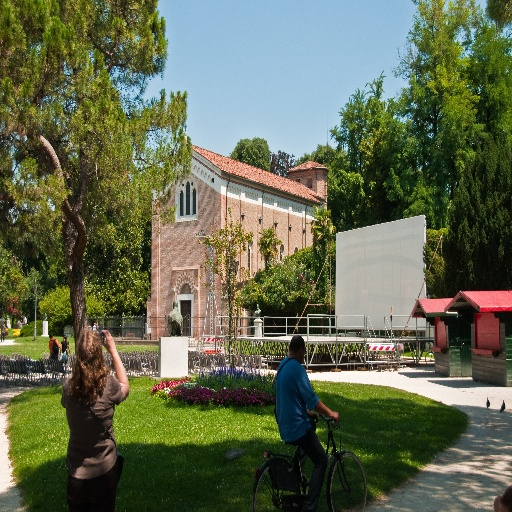hand: (100, 323, 112, 349), (331, 410, 339, 428), (309, 412, 318, 421)
